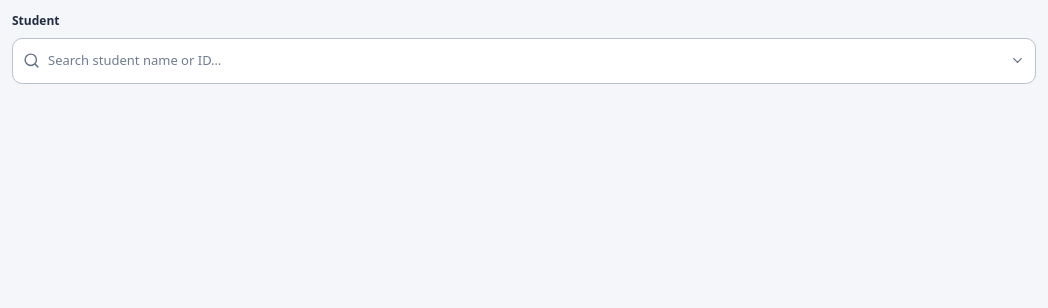
Test: loads another server page instead of hiding records past the first result window
Click the dropdown at [525, 61], box [48,39,1002,82]
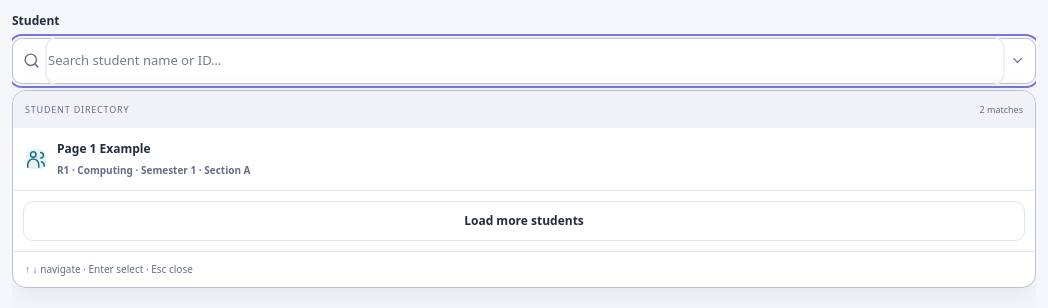
Expected: the option "Page 1 Example R1 · Computing · Semester 1 · Section A" is shown, [13,128,1035,191]
Click the button "Load more students" at [524, 221], box [23,201,1025,241]
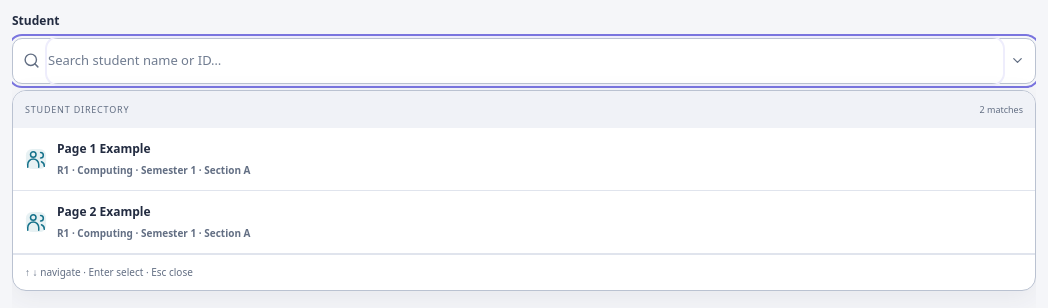
Expected: the option "Page 2 Example R1 · Computing · Semester 1 · Section A" is shown, [13,191,1035,254]
